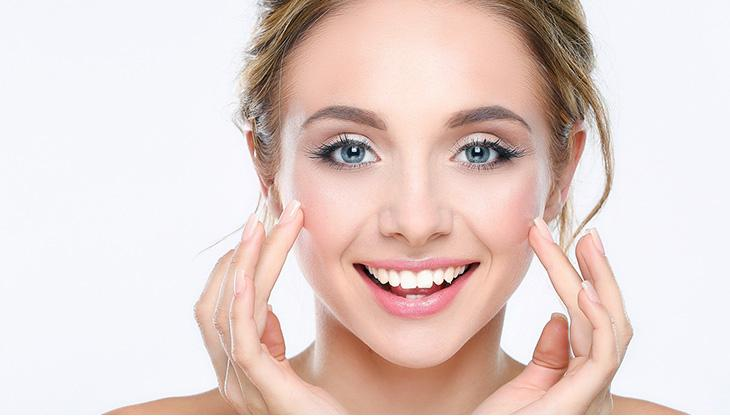Normal-Skin: (277, 52, 498, 378)
